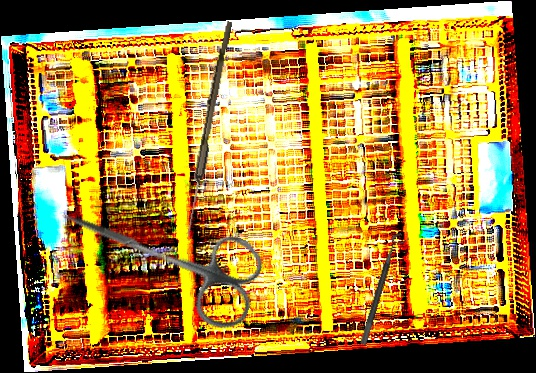Fixation Ring: (359, 231, 410, 348)
Iris Scissors: (44, 175, 272, 337)
Surgical Spoon: (183, 20, 233, 237)
